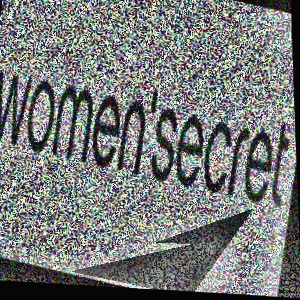women_secret: (289, 27, 294, 104)
